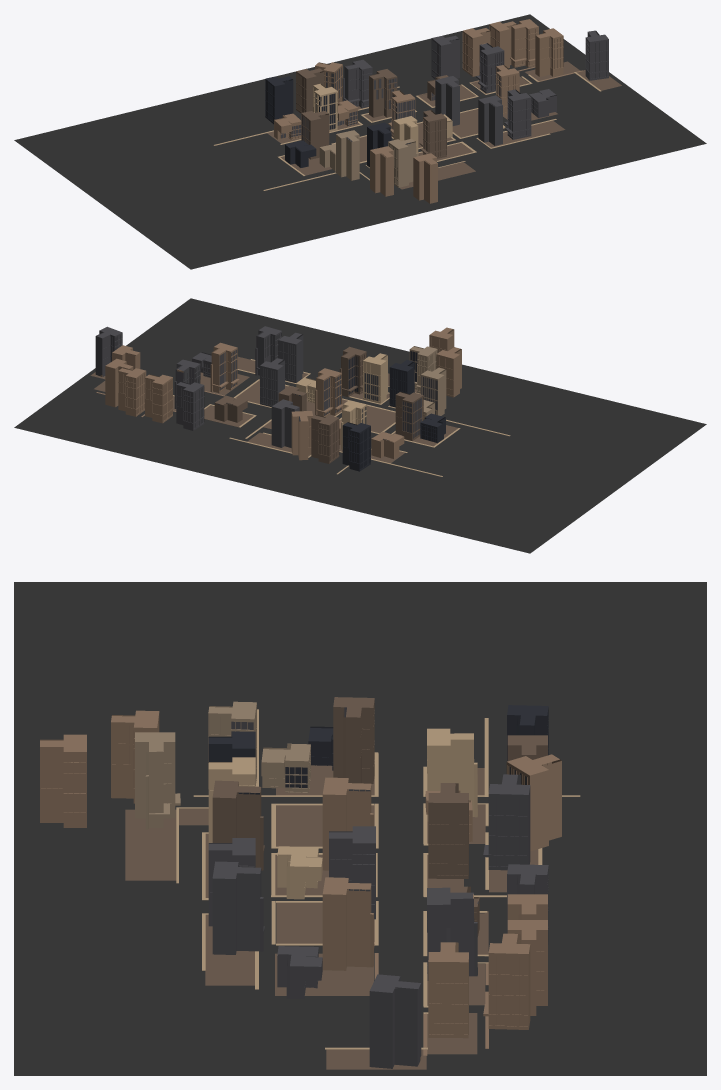
The model's file is CityStreet.fbx.
3 renders of one model, top to bottom at view 1: azimuth 30°, elevation 25°; view 2: azimuth 150°, elevation 25°; view 3: azimuth 270°, elevation 25°, orthographic. The views are drawn at different scales.
Parts seen in each view (by area): view 1: CityPlane, Cube.507, Cube.471, Cube.473, Cube.482, Cube.460, Cube.454, Cube.436, Cube.462, Cube.464, Cube.463, Cube.469 (+11 smaller); view 2: CityPlane, Cube.507, Cube.471, Cube.469, Cube.464, Cube.453, Cube.457, Cube.462, Cube.473, Cube.472, Cube.454, Cube.436 (+8 smaller); view 3: CityPlane, Cube.507, Cube.460, Cube.473, Cube.463, Cube.482, Cube.464, Cube.472, OtherBuildingPlanes.020, Cube.462, Cube.474, Cube.453 (+18 smaller).
Boxes of the visible parts, x1,y1,x2,y2 form: CityPlane: [14, 14, 706, 269]; Cube.507: [416, 19, 608, 148]; Cube.471: [265, 76, 293, 124]; Cube.473: [342, 59, 372, 108]; Cube.482: [369, 69, 397, 117]; Cube.460: [413, 153, 437, 203]; Cube.454: [336, 130, 359, 180]; Cube.436: [370, 146, 393, 196]; Cube.462: [419, 110, 446, 158]; Cube.464: [301, 111, 329, 159]; Cube.463: [388, 138, 417, 187]; Cube.469: [296, 68, 324, 113]; CityPlane: [14, 298, 706, 553]; Cube.507: [95, 326, 310, 430]; Cube.471: [342, 422, 370, 471]; Cube.469: [311, 415, 339, 463]; Cube.464: [395, 392, 423, 440]; Cube.453: [315, 368, 342, 417]; Cube.457: [363, 353, 387, 403]; Cube.462: [339, 346, 366, 397]; Cube.473: [271, 399, 299, 447]; Cube.472: [291, 411, 313, 460]; Cube.454: [420, 367, 446, 415]; Cube.436: [436, 347, 461, 397]; CityPlane: [14, 582, 706, 1075]; Cube.507: [202, 826, 548, 1068]; Cube.460: [40, 734, 86, 827]; Cube.473: [483, 774, 530, 870]; Cube.463: [135, 732, 180, 829]; Cube.482: [428, 783, 468, 878]; Cube.464: [333, 697, 374, 783]; Cube.472: [506, 754, 561, 851]; OtherBuildingPlanes.020: [125, 809, 176, 880]; Cube.462: [212, 780, 264, 870]; Cube.474: [427, 728, 477, 821]; Cube.453: [322, 777, 373, 870].
Bounding box in the file's own units: 11396 × 840 × 6760.
